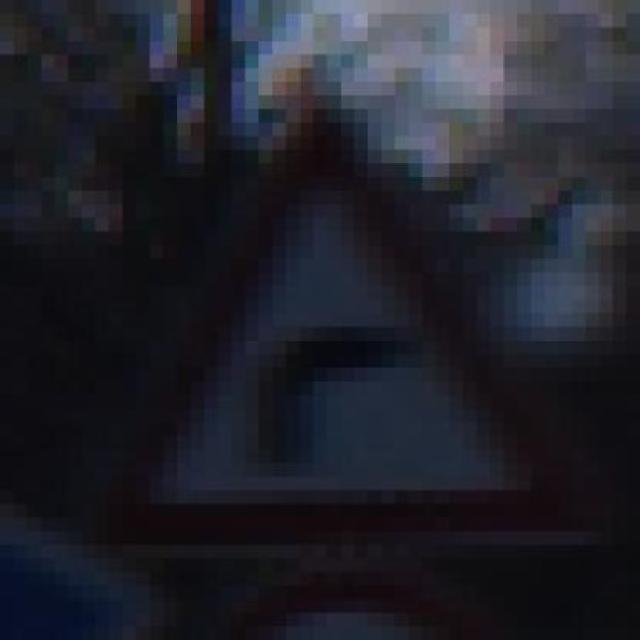Dangerous Rright Curve Ahead: (82, 82, 600, 572)
